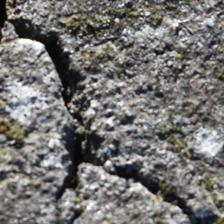Crack: (13, 20, 180, 199)
